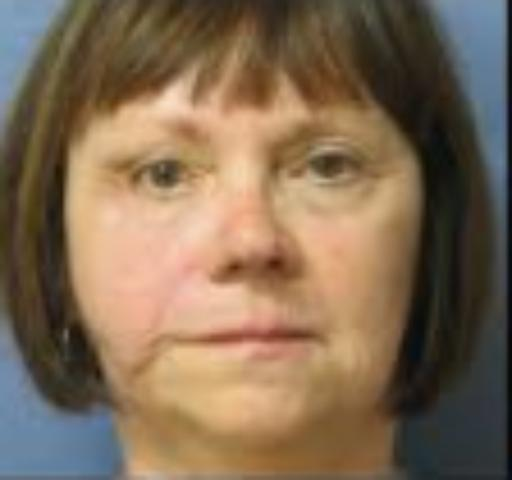left_eye: (291, 153, 375, 190)
left_lip_corner: (295, 325, 334, 352)
right_eye: (112, 158, 208, 199)
right_lip_corner: (166, 326, 208, 351)
